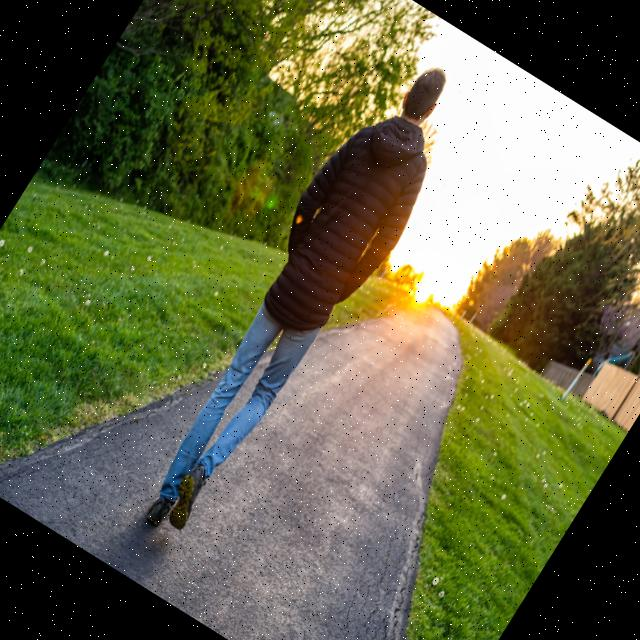Person: (112, 41, 487, 553)
